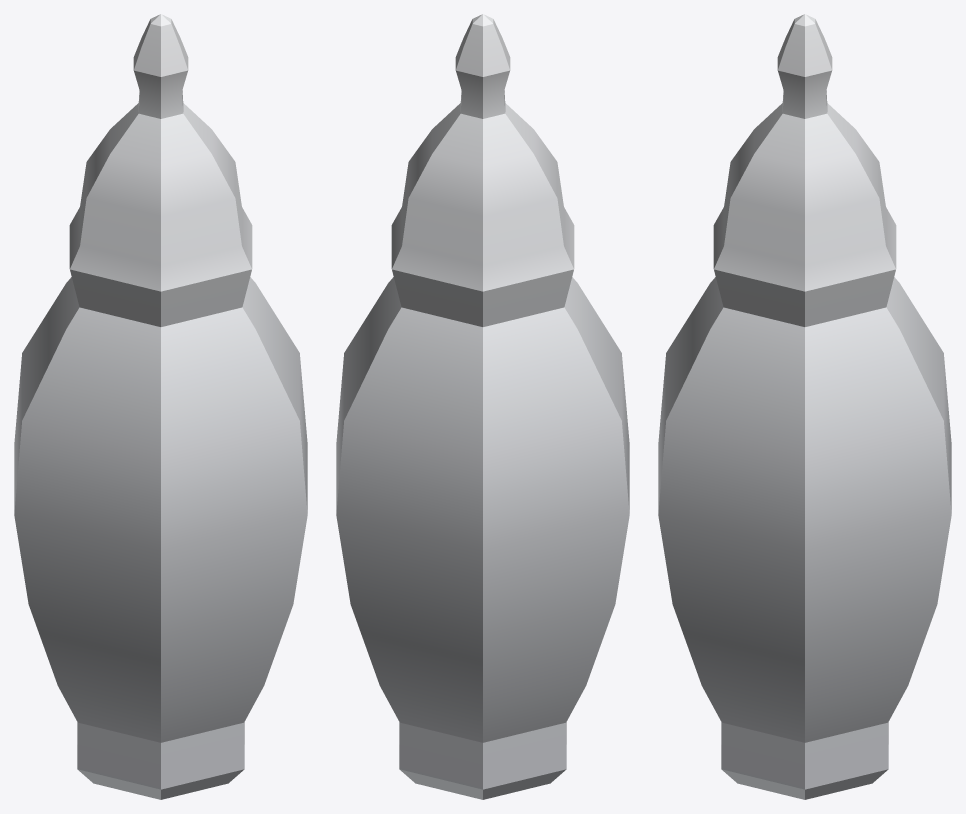
The model's file is Vase_Profiled.fbx.
The picture shows the model from 3 angles, left to right: view 1: azimuth 30°, elevation 25°; view 2: azimuth 150°, elevation 25°; view 3: azimuth 270°, elevation 25°; orthographic projection.
Parts seen in each view (by area): view 1: Vase_Profiled; view 2: Vase_Profiled; view 3: Vase_Profiled.
Part boxes in pixels (x1=…): Vase_Profiled: x1=14, y1=14, x2=307, y2=799; Vase_Profiled: x1=336, y1=14, x2=629, y2=799; Vase_Profiled: x1=658, y1=14, x2=951, y2=799.
Size of the model in its own units: 16.02 by 39.4 by 13.87.
